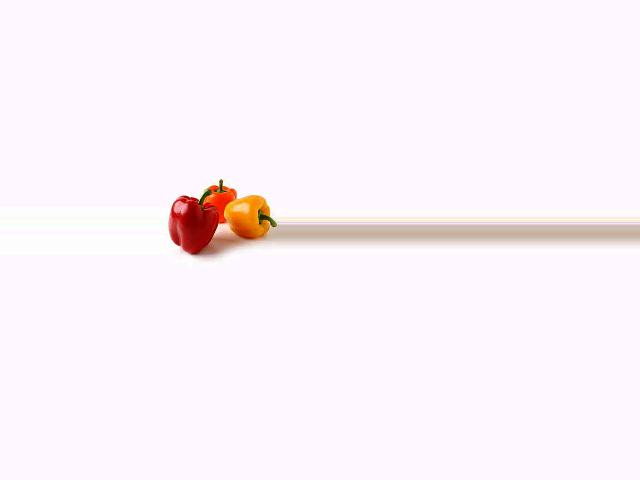bell_pepper: (167, 183, 221, 260)
